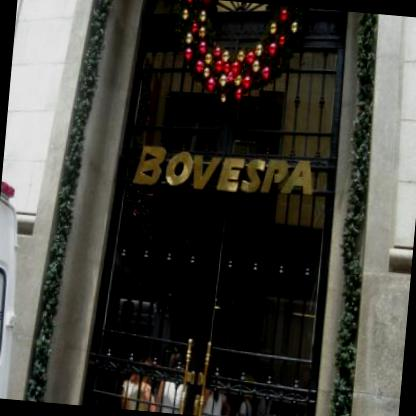truck: (0, 146, 32, 399)
